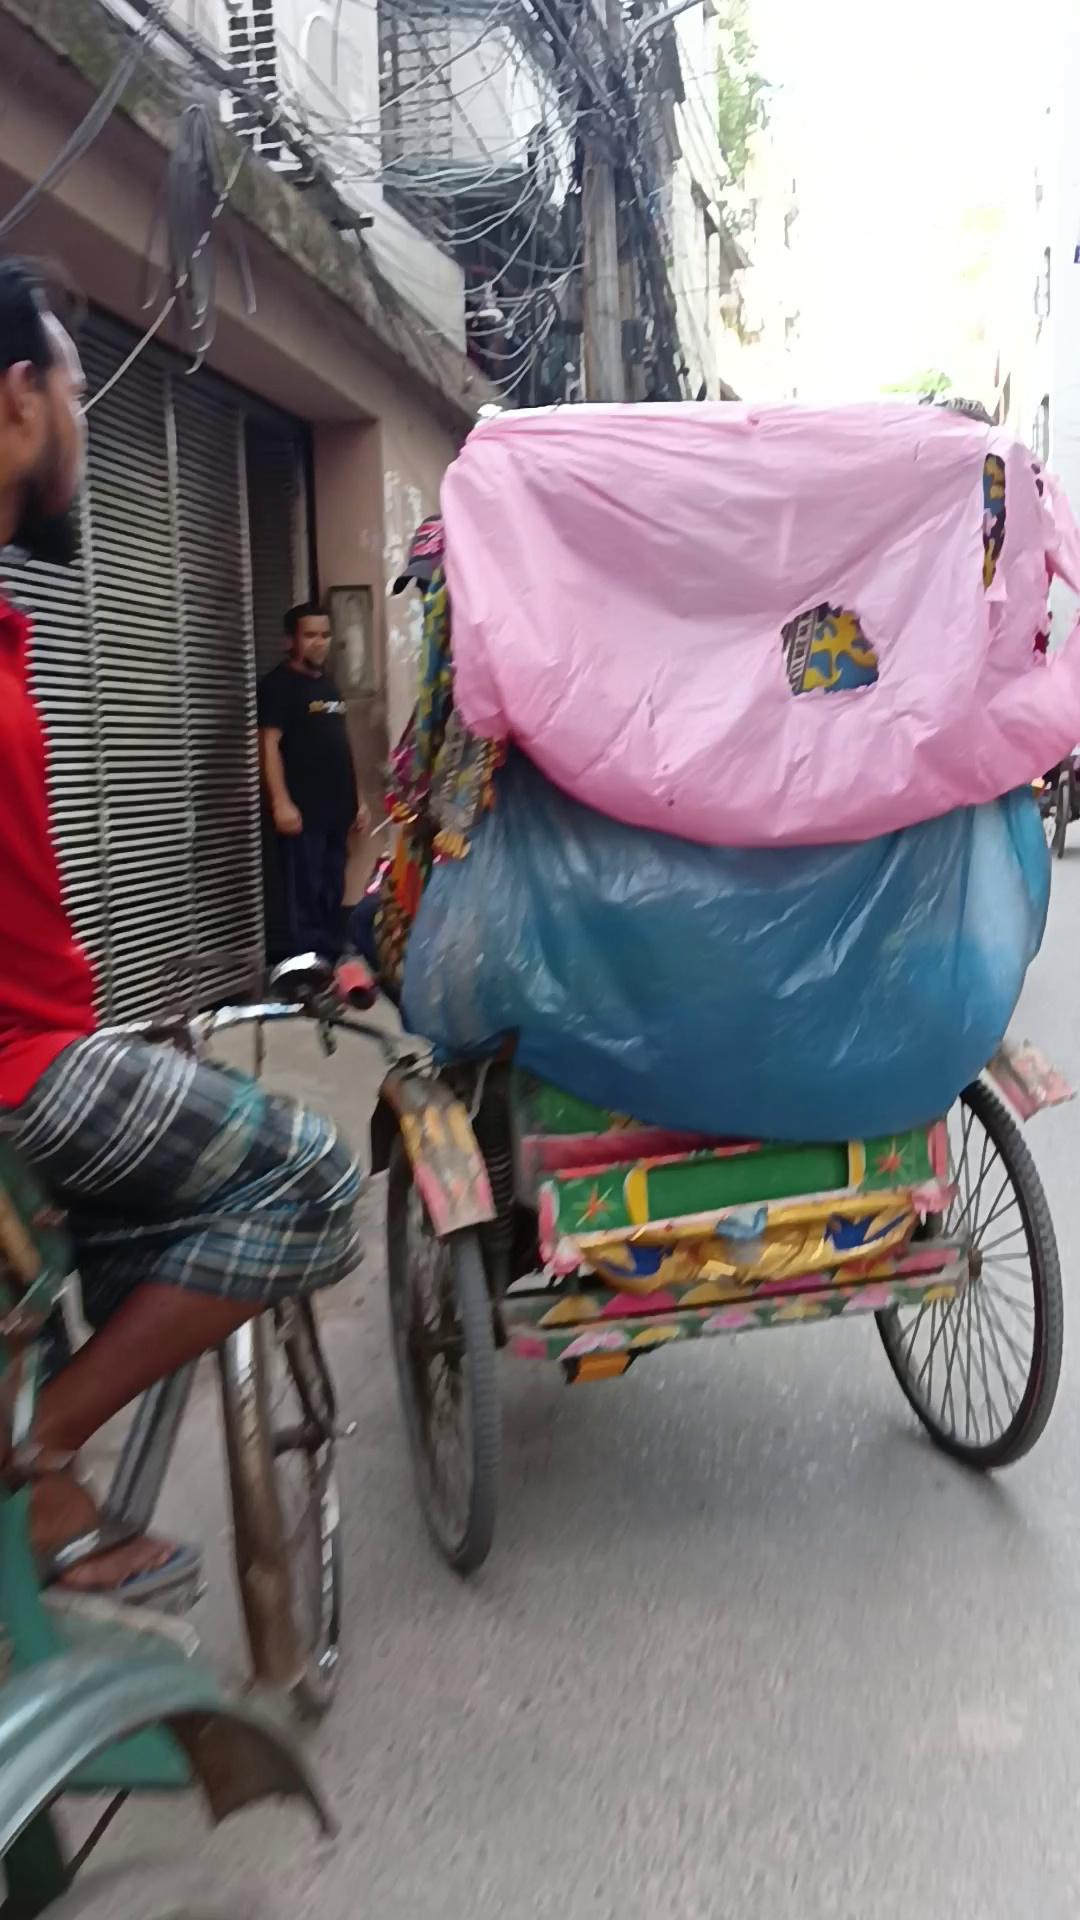Muddy road: (0, 253, 368, 1596), (255, 601, 371, 971)
Pothole: (1, 945, 378, 1916)
Potted-plant: (7, 839, 1076, 1916)
